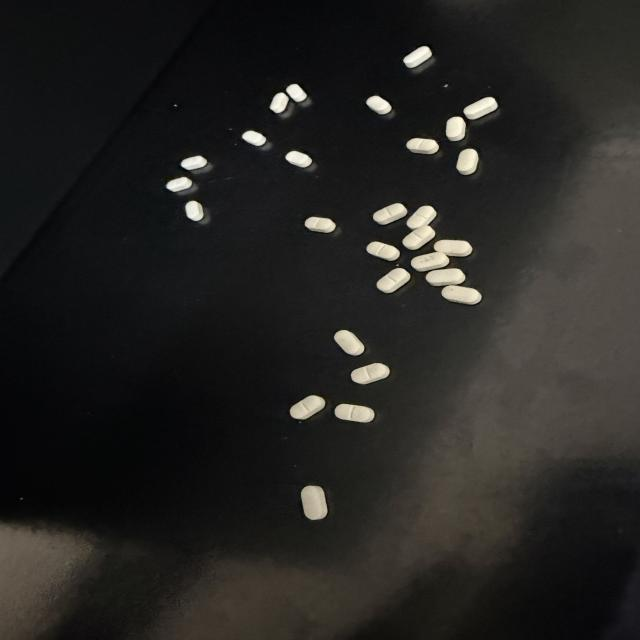pill: (301, 486, 327, 520), (290, 395, 325, 420), (377, 268, 410, 293), (351, 363, 390, 384), (334, 330, 364, 355), (403, 225, 434, 249), (464, 97, 497, 119), (411, 252, 449, 271), (373, 203, 407, 224), (442, 286, 481, 304), (335, 404, 374, 422), (426, 268, 465, 286), (407, 206, 436, 229), (403, 46, 432, 68), (434, 240, 472, 256), (367, 242, 399, 260), (457, 149, 478, 175), (406, 138, 439, 154), (305, 217, 335, 233), (446, 117, 465, 141), (366, 96, 391, 114), (285, 151, 312, 167), (166, 177, 192, 192), (242, 130, 266, 146), (185, 201, 204, 221), (270, 93, 289, 113), (286, 84, 307, 102), (181, 156, 207, 170)
